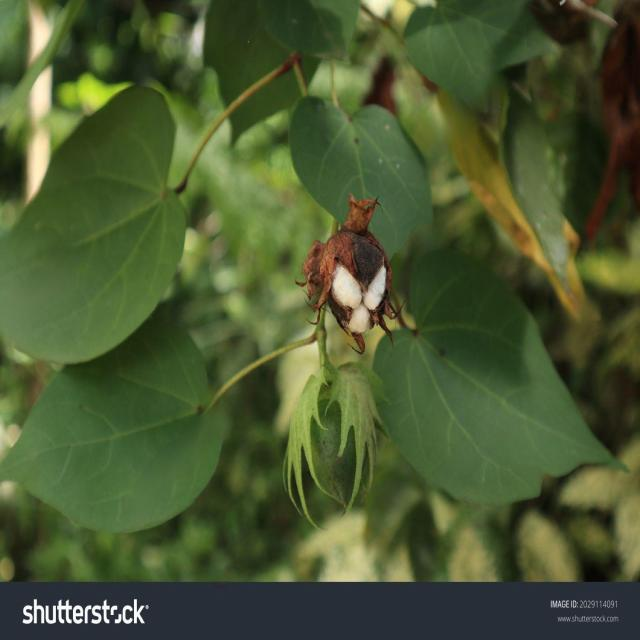Early_blight: (291, 185, 395, 360)
